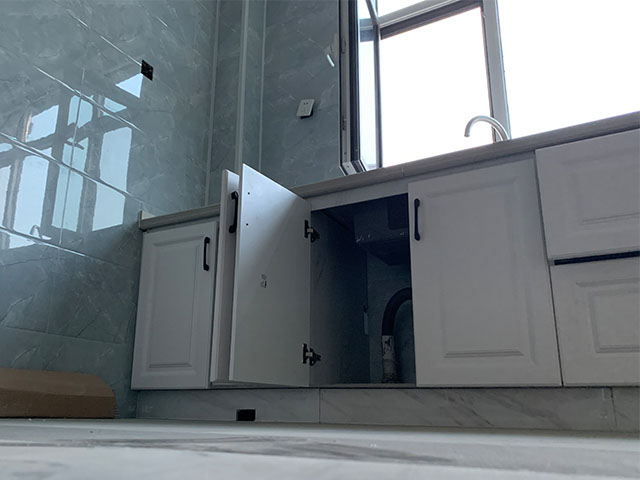cabinet: (127, 120, 640, 431)
